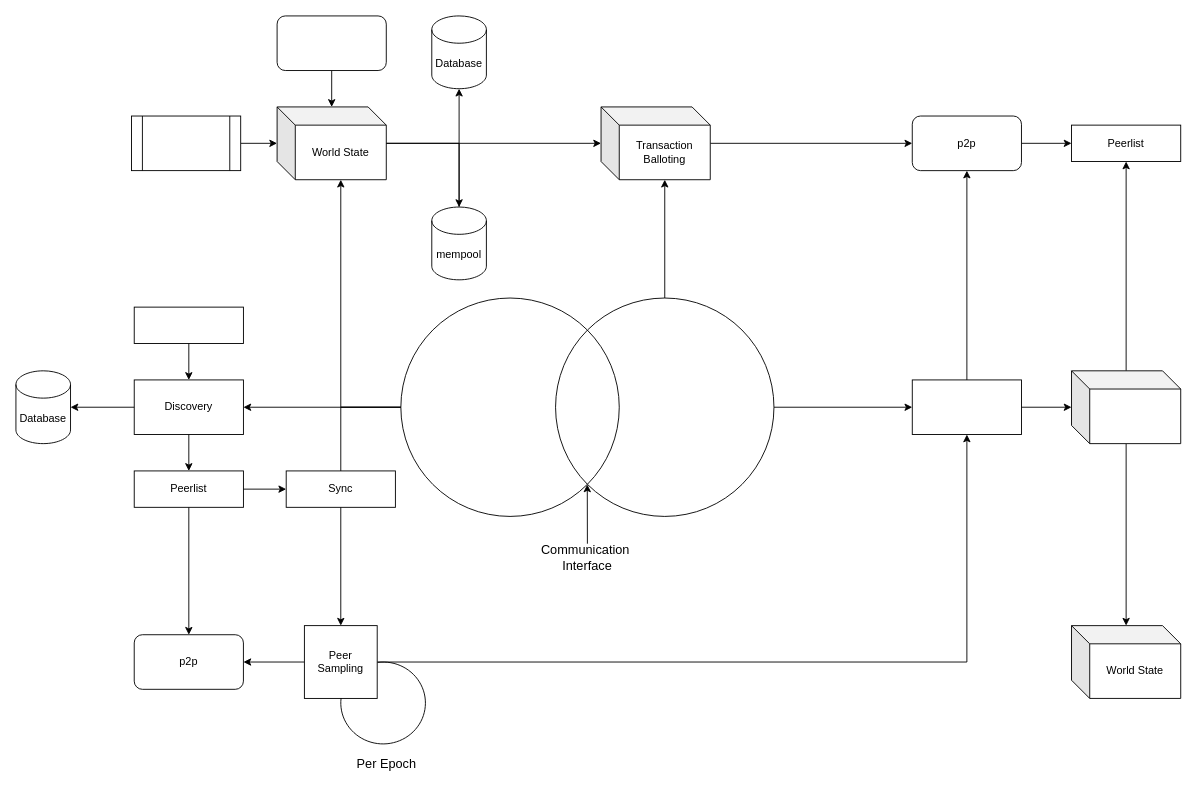
Image size: 1197x794. Some labels were removed from this diagram. Each missing label, with the centre of its shape:
"Block Creation" goes at point 1126,407.
"Consensus Client" goes at point 664,406.
"Execution Client" goes at point 509,406.
"Hash Majority" goes at point 966,407.
"Patricia merkle" goes at point 331,43.
"Registory" goes at point 188,325.
"RPC" goes at point 186,143.
